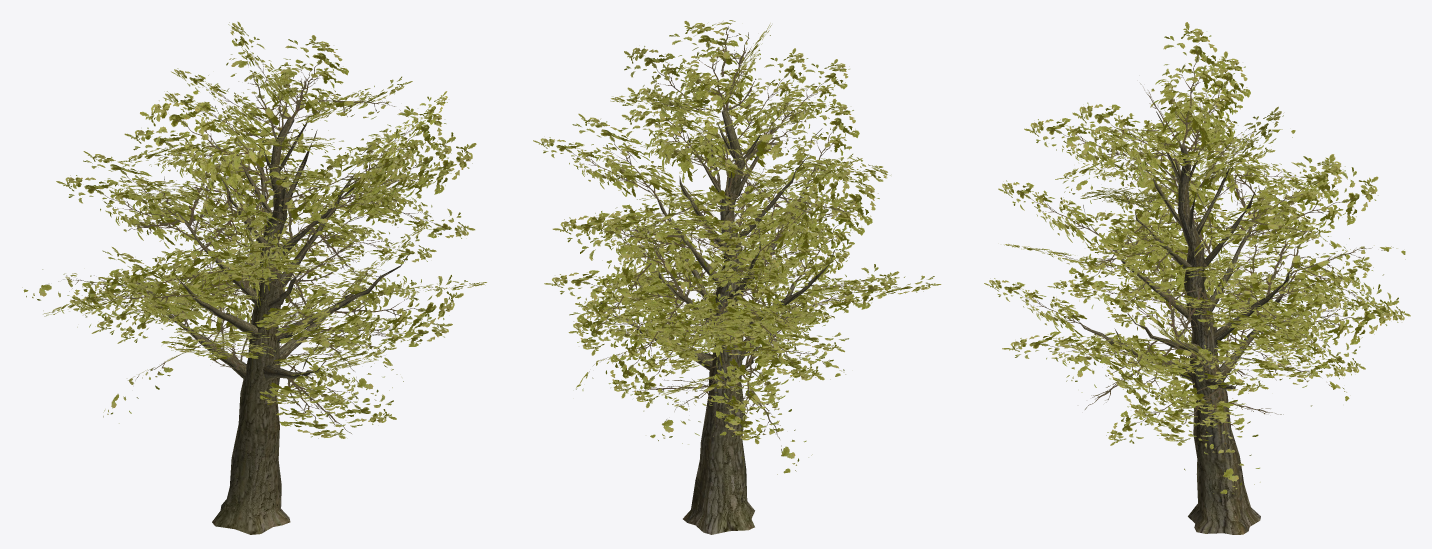
The model's file is tree-oak.lod0.glb.
The picture shows the model from 3 angles, left to right: view 1: azimuth 30°, elevation 25°; view 2: azimuth 150°, elevation 25°; view 3: azimuth 270°, elevation 25°; orthographic projection. The views are drawn at different scales.
Visible parts, largest first — view 1: leafplanes_10_3_leaf1_0, treelarge_bark1_0; view 2: leafplanes_10_3_leaf1_0, treelarge_bark1_0; view 3: leafplanes_10_3_leaf1_0, treelarge_bark1_0.
Boxes of the visible parts, bbox=[...] form: leafplanes_10_3_leaf1_0: bbox=[22, 21, 486, 438]; treelarge_bark1_0: bbox=[137, 106, 407, 534]; leafplanes_10_3_leaf1_0: bbox=[533, 20, 941, 474]; treelarge_bark1_0: bbox=[600, 91, 834, 534]; leafplanes_10_3_leaf1_0: bbox=[984, 22, 1410, 494]; treelarge_bark1_0: bbox=[1072, 111, 1303, 534].
Size of the model in its own units: 10.74 by 13 by 10.62.
2 materials, 2 textured.
